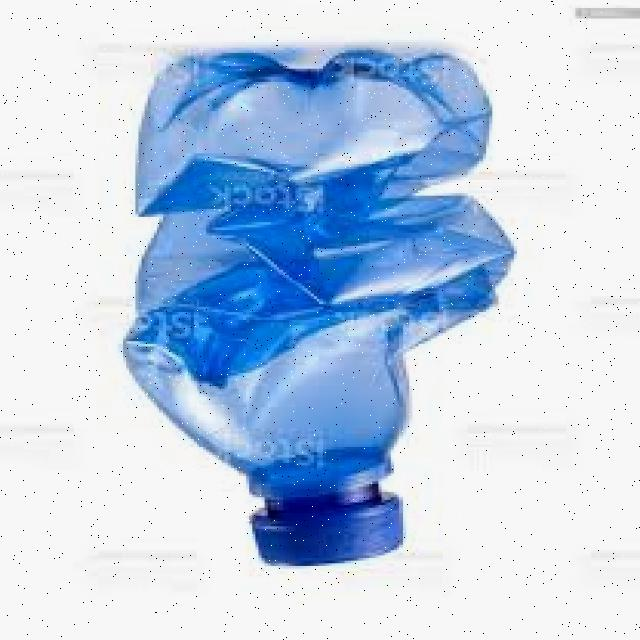bottle: (120, 48, 517, 588)
cap: (250, 484, 408, 568)
